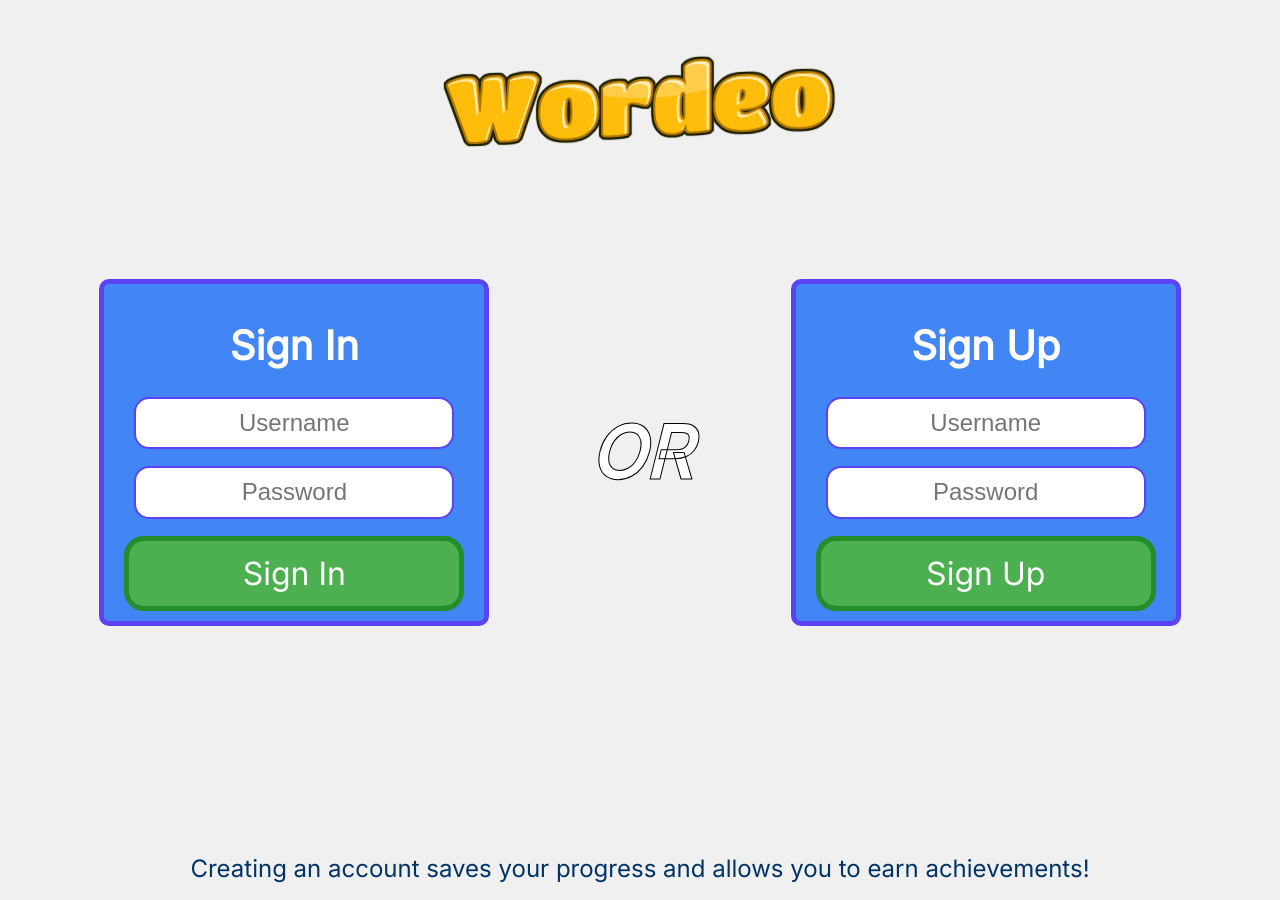
Test case: check login warning update
Click the button "Sign In" at (294, 573), box [124,536,464,611]
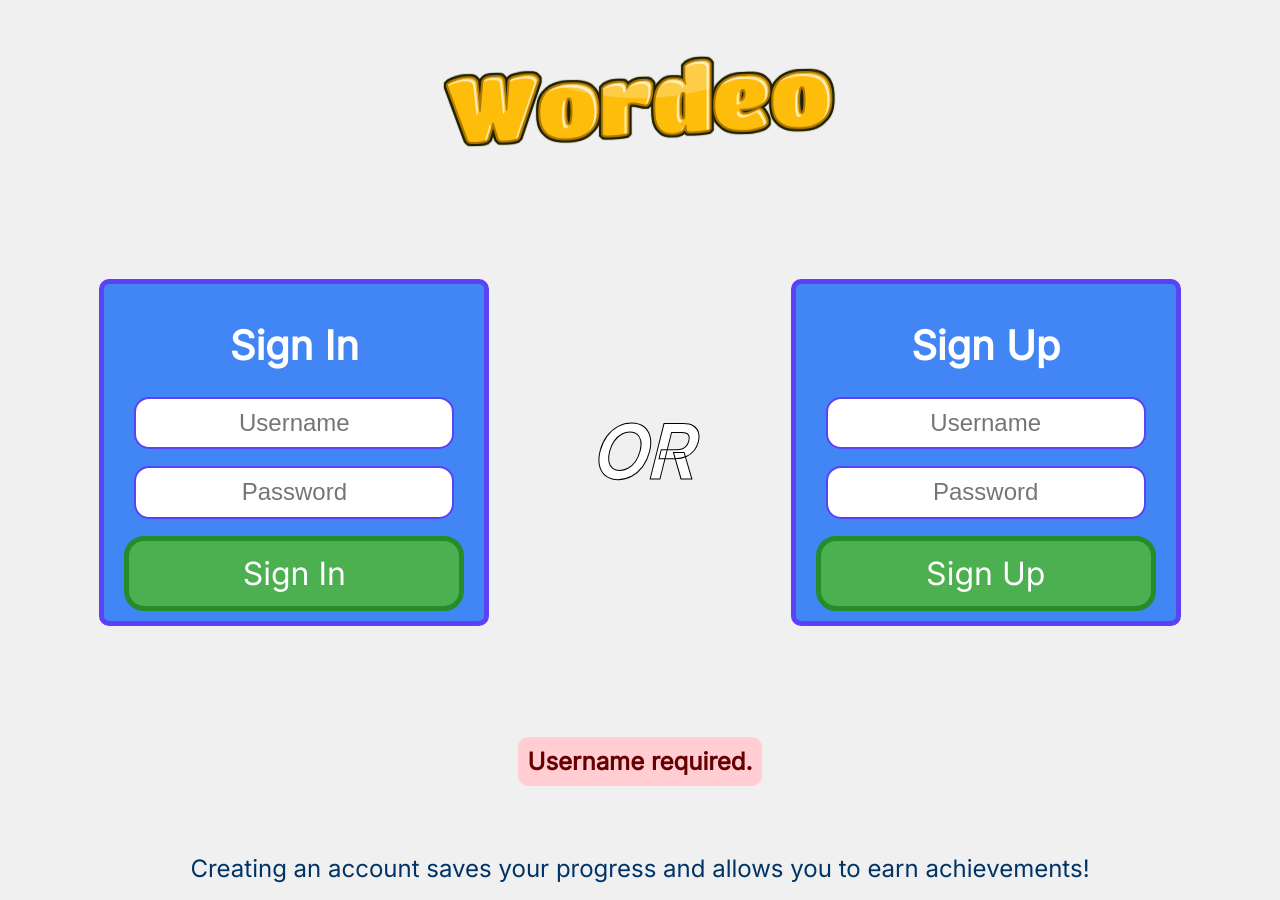
Expected: the text "Username required." is shown, [518,737,762,786]
Type "test" into the field with id "signInUser" at (294, 423), box [134,397,454,449]
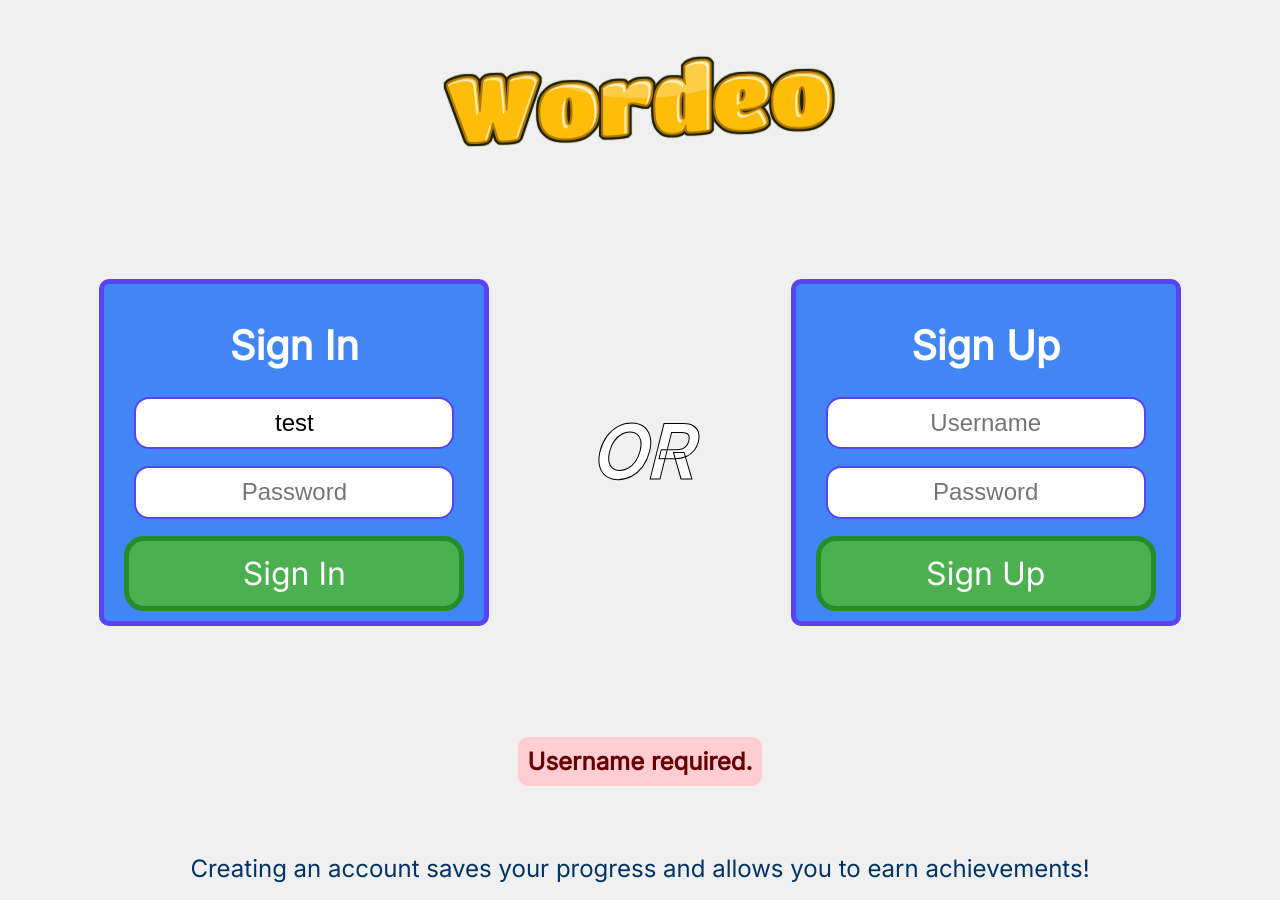
Click the button "Sign In" at (294, 573), box [124,536,464,611]
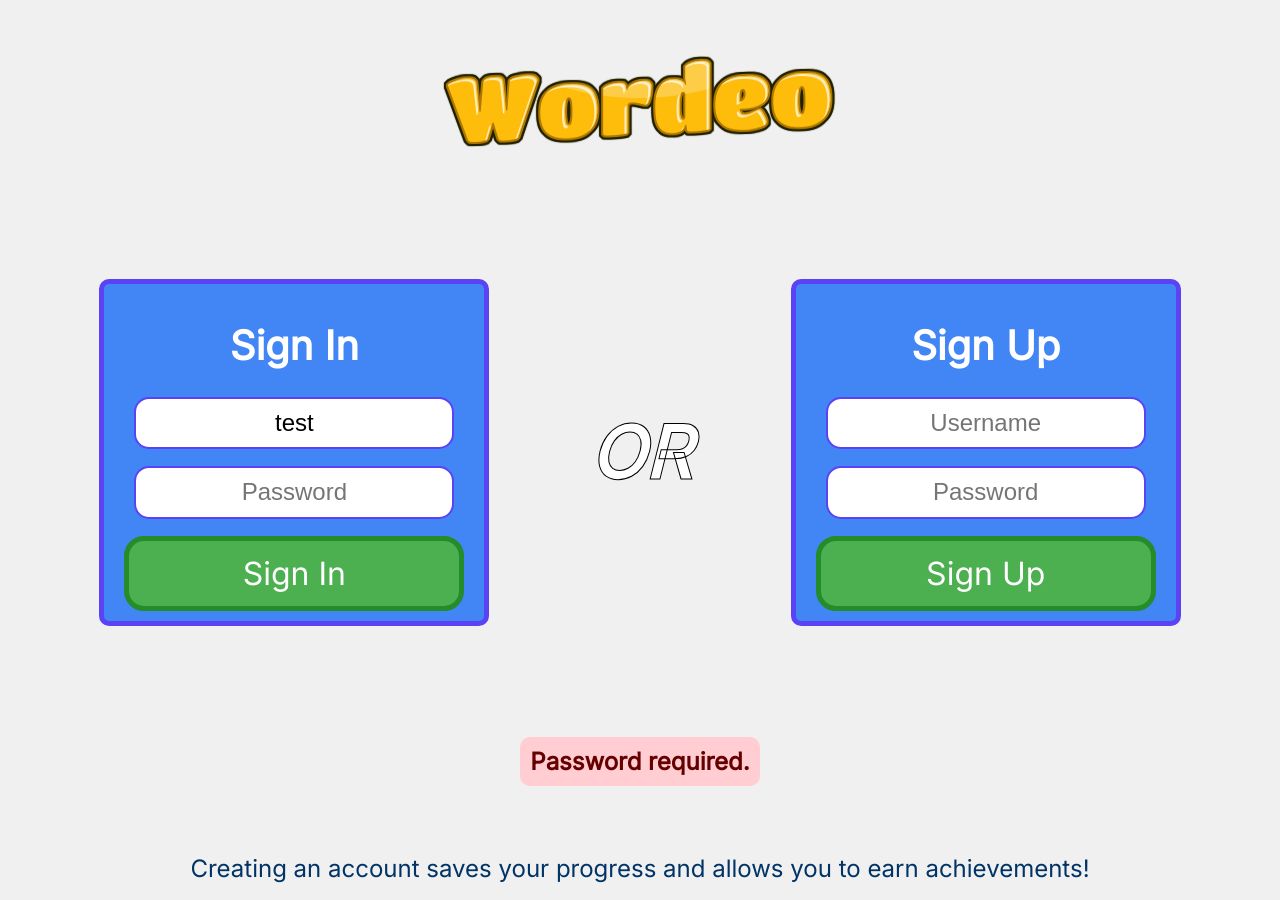
Expected: the text "Password required." is shown, [520,737,760,786]
